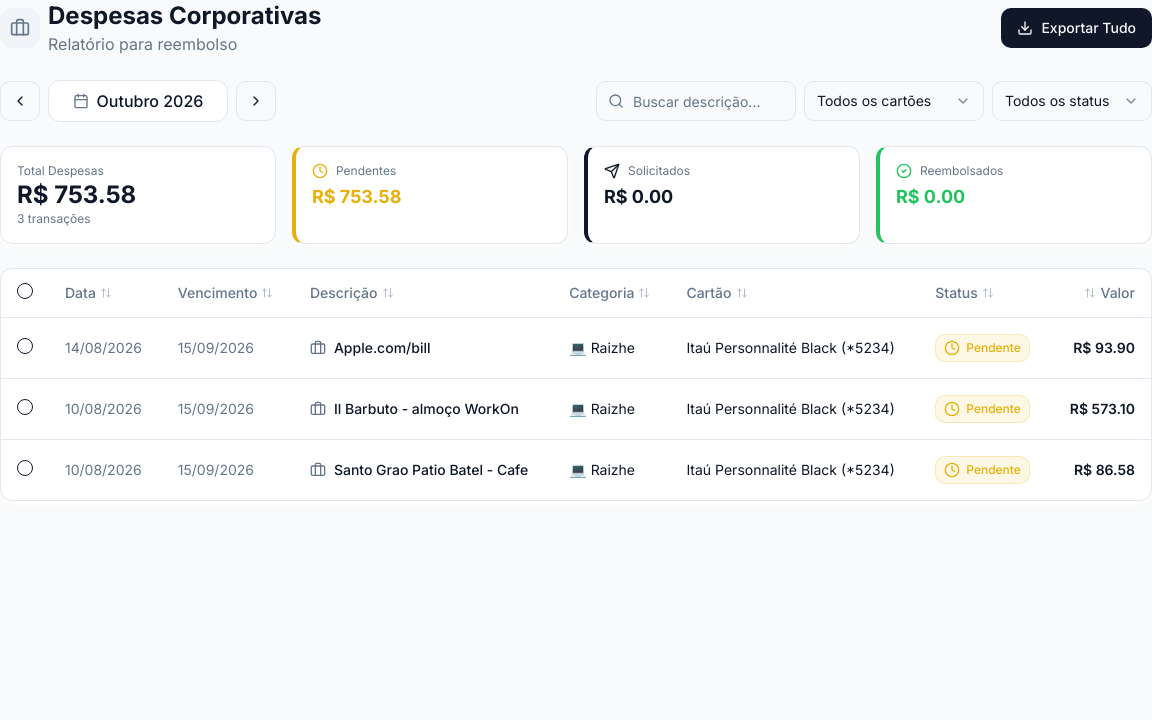
Test: Despesas Corporativas — reembolso recebido por PIX › pergunta a origem em vez de abater a fatura direto
Click the 1st checkbox at (25, 291), box [17, 283, 33, 299]
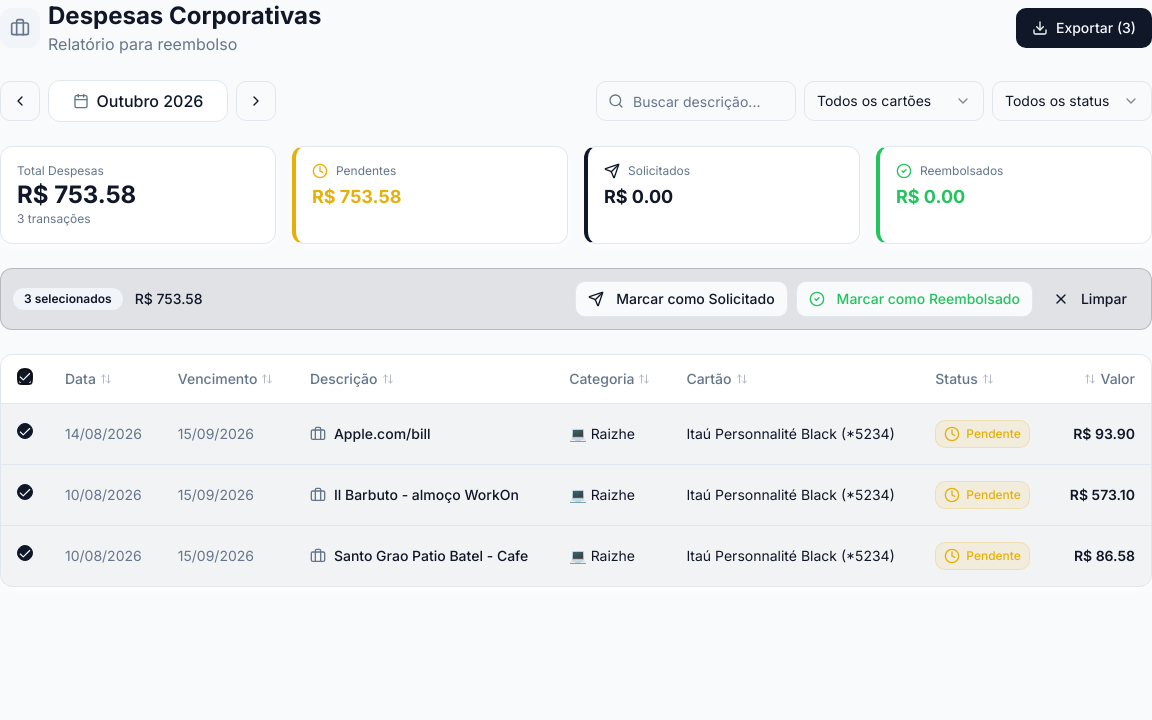
Click the button "Marcar como Reembolsado" at (914, 299), box [796, 281, 1033, 317]
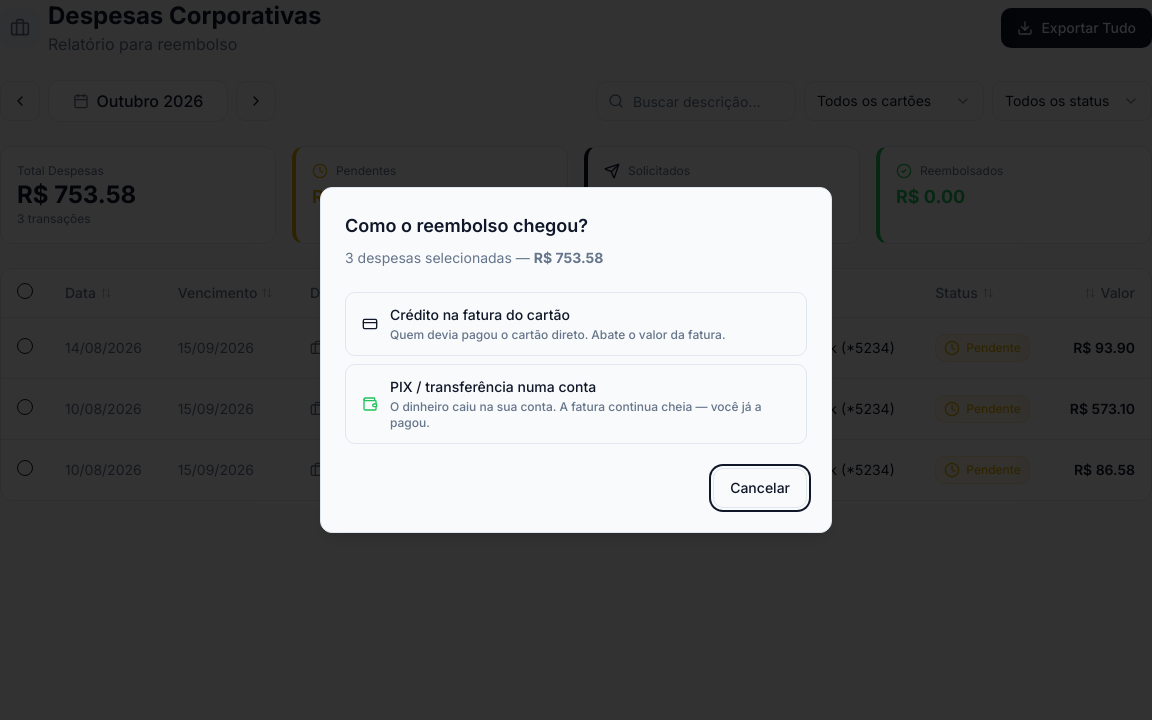
Expected: the heading "Como o reembolso chegou?" is shown, [345, 215, 588, 236]
Expected: the text "3 despesas selecionadas — R$ 753.58" is shown, [345, 249, 603, 266]
